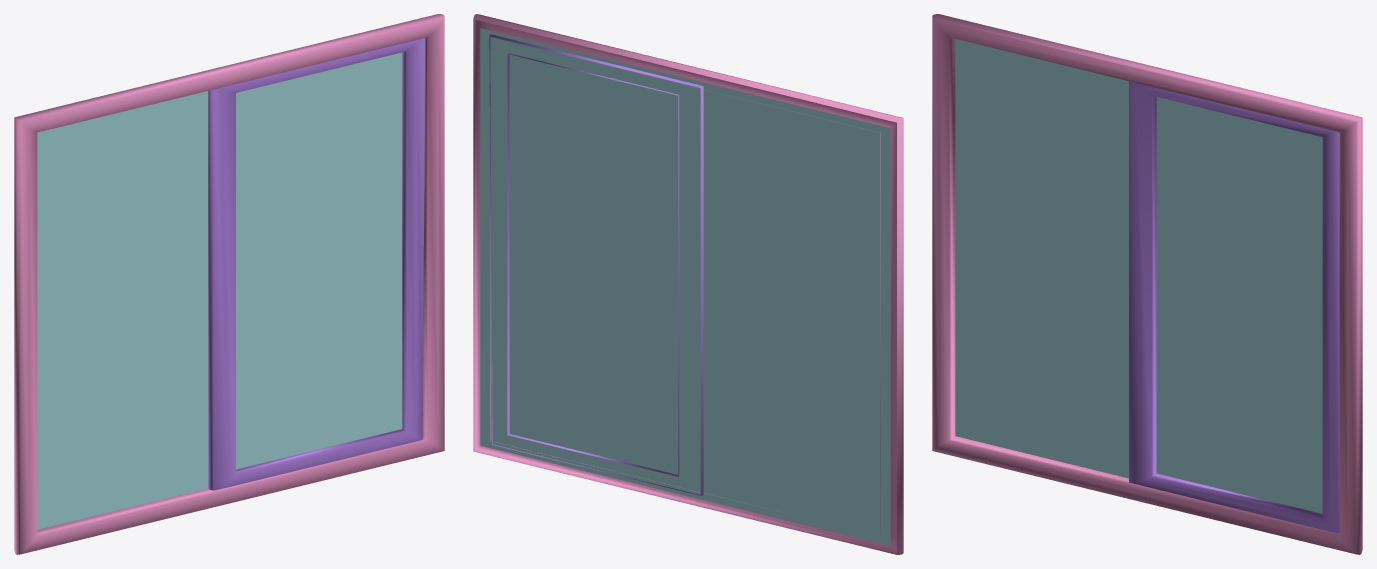
The model's file is Friday_Tristan_SlidingGlassDoor.fbx.
The picture shows the model from 3 angles, left to right: view 1: azimuth 30°, elevation 25°; view 2: azimuth 150°, elevation 25°; view 3: azimuth 330°, elevation 25°; orthographic projection.
Parts seen in each view (by area): view 1: Glass, Window, Door_Slidey; view 2: Glass, Window, Door_Slidey; view 3: Glass, Window, Door_Slidey.
Part boxes in pixels (<box>): Glass: <box>37,52,402,529</box>; Window: <box>14,14,444,554</box>; Door_Slidey: <box>208,38,424,490</box>; Glass: <box>480,28,890,545</box>; Window: <box>473,14,903,554</box>; Door_Slidey: <box>489,34,703,495</box>; Glass: <box>955,39,1322,513</box>; Window: <box>932,14,1362,554</box>; Door_Slidey: <box>1129,81,1339,533</box>.
Size of the model in its own units: 87.81 by 85.4 by 3.15.
